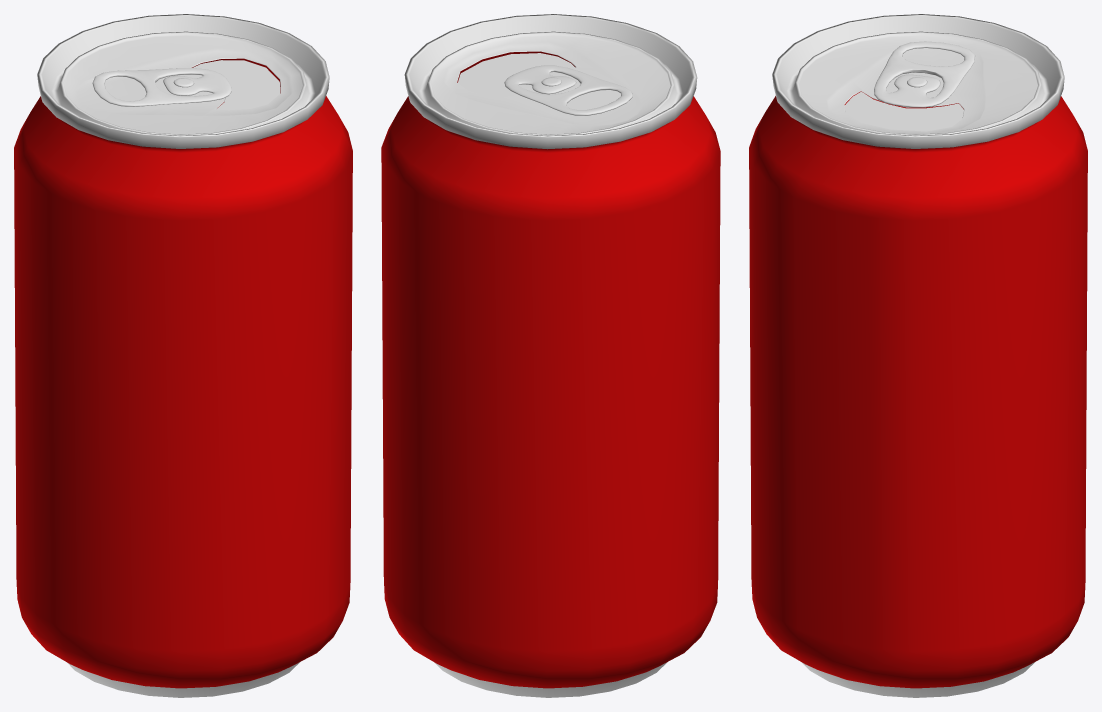
The model's file is lata.fbx.
The picture shows the model from 3 angles, left to right: view 1: azimuth 30°, elevation 25°; view 2: azimuth 150°, elevation 25°; view 3: azimuth 270°, elevation 25°; orthographic projection.
Visible parts, largest first — view 1: pCube2; view 2: pCube2; view 3: pCube2.
Part boxes in pixels (left/top/right/bottom): pCube2: left=14, top=14, right=352, bottom=697; pCube2: left=381, top=14, right=720, bottom=697; pCube2: left=749, top=14, right=1087, bottom=697.
Bounding box in the file's own units: 3.32 × 6.16 × 3.32.
